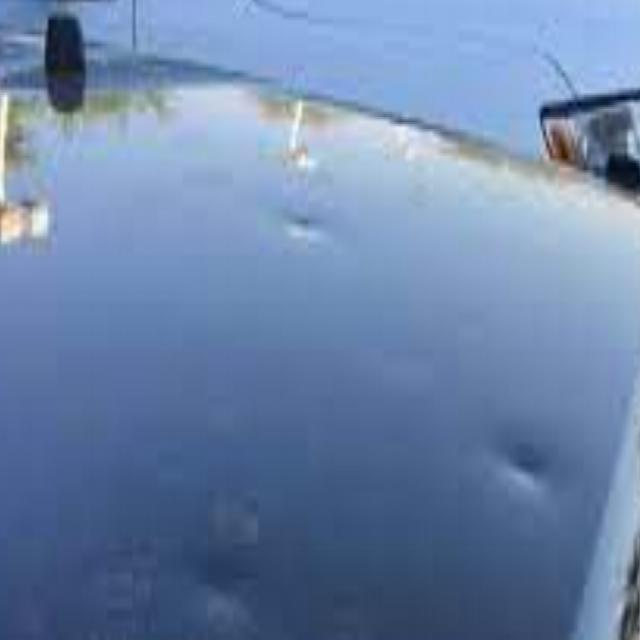dents: (486, 423, 564, 514), (272, 185, 340, 262)
